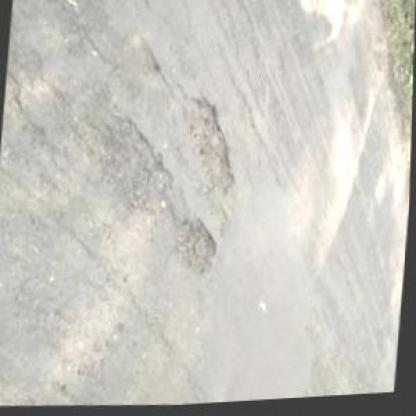pothole: (90, 111, 176, 225), (180, 93, 243, 202), (168, 215, 219, 281)
